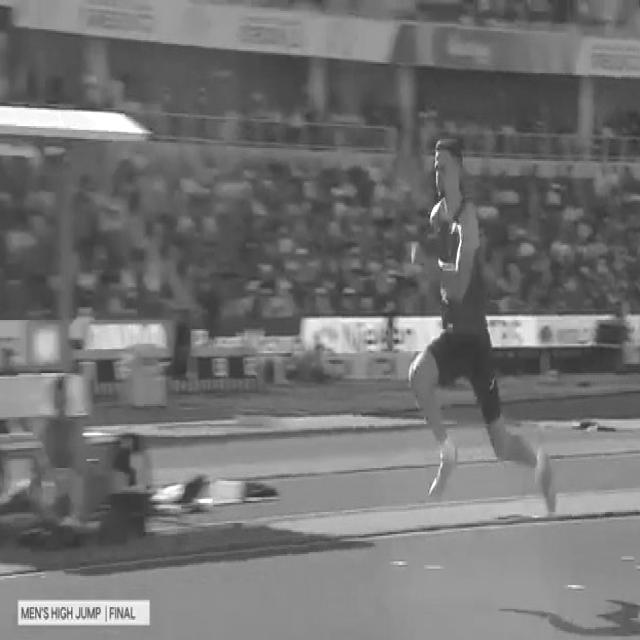run: (404, 133, 556, 514)
